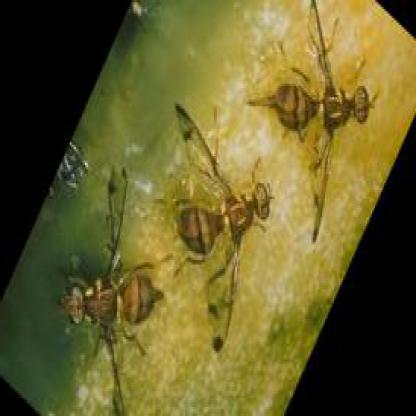fruit fly: (245, 12, 370, 237), (173, 104, 269, 355)
